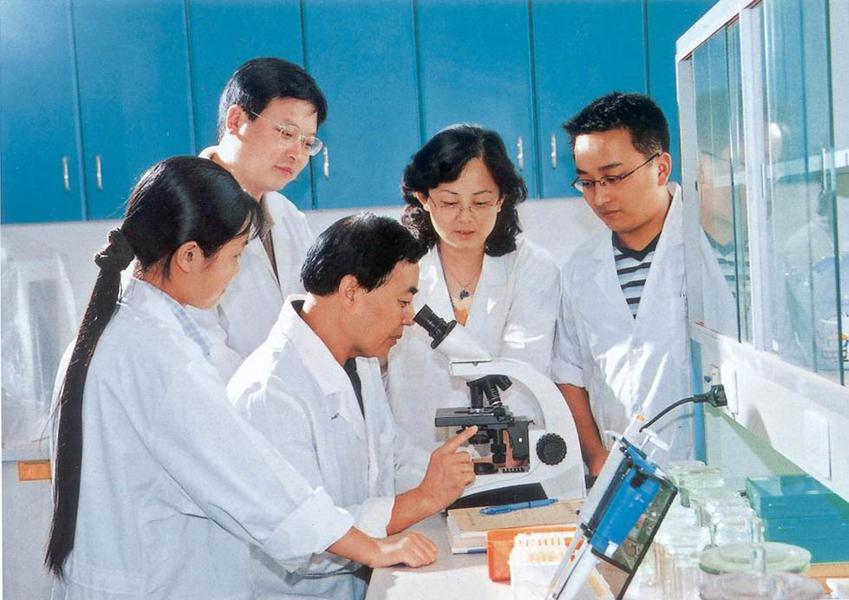person: (225, 215, 530, 600)
